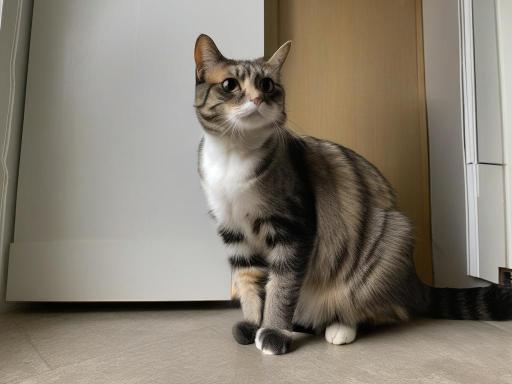cat_sitting: (194, 34, 512, 354)
